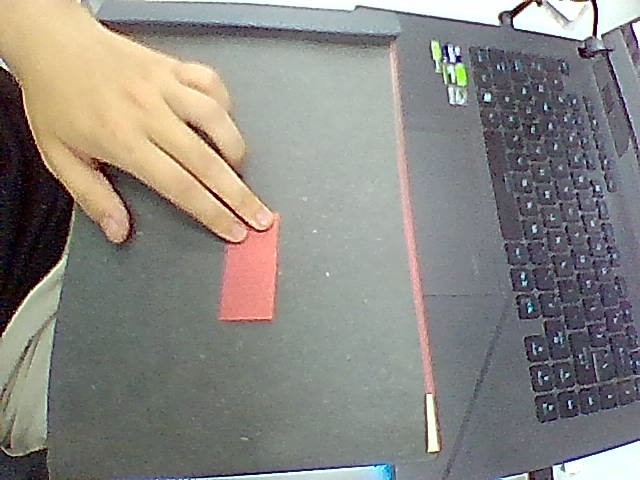card: (220, 215, 277, 321)
